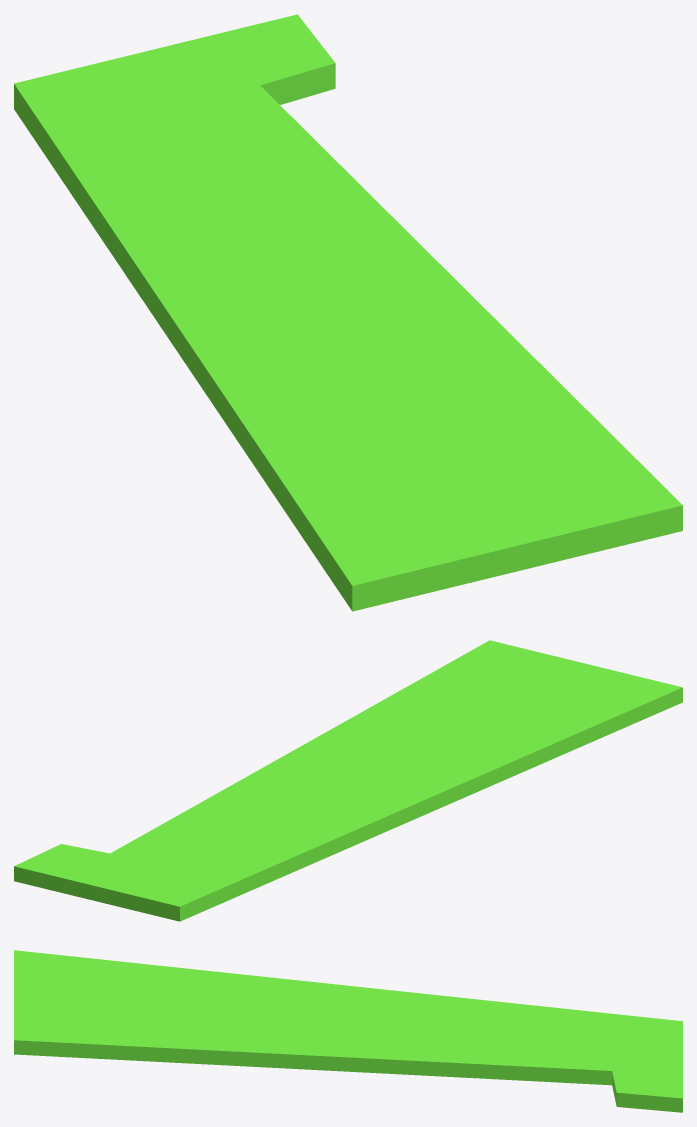
Rendered from aileron_left.dae.
3 renders of one model, top to bottom at view 1: azimuth 30°, elevation 25°; view 2: azimuth 150°, elevation 25°; view 3: azimuth 270°, elevation 25°, orthographic. The views are drawn at different scales.
Visible parts, largest first — view 1: aileron_left; view 2: aileron_left; view 3: aileron_left.
Boxes of the visible parts, x1,y1,x2,y2 form: aileron_left: (14,14,682,611); aileron_left: (14,640,682,921); aileron_left: (14,950,682,1112).
Bounding box in the file's own units: 0.1335 × 0.2544 × 0.006.
